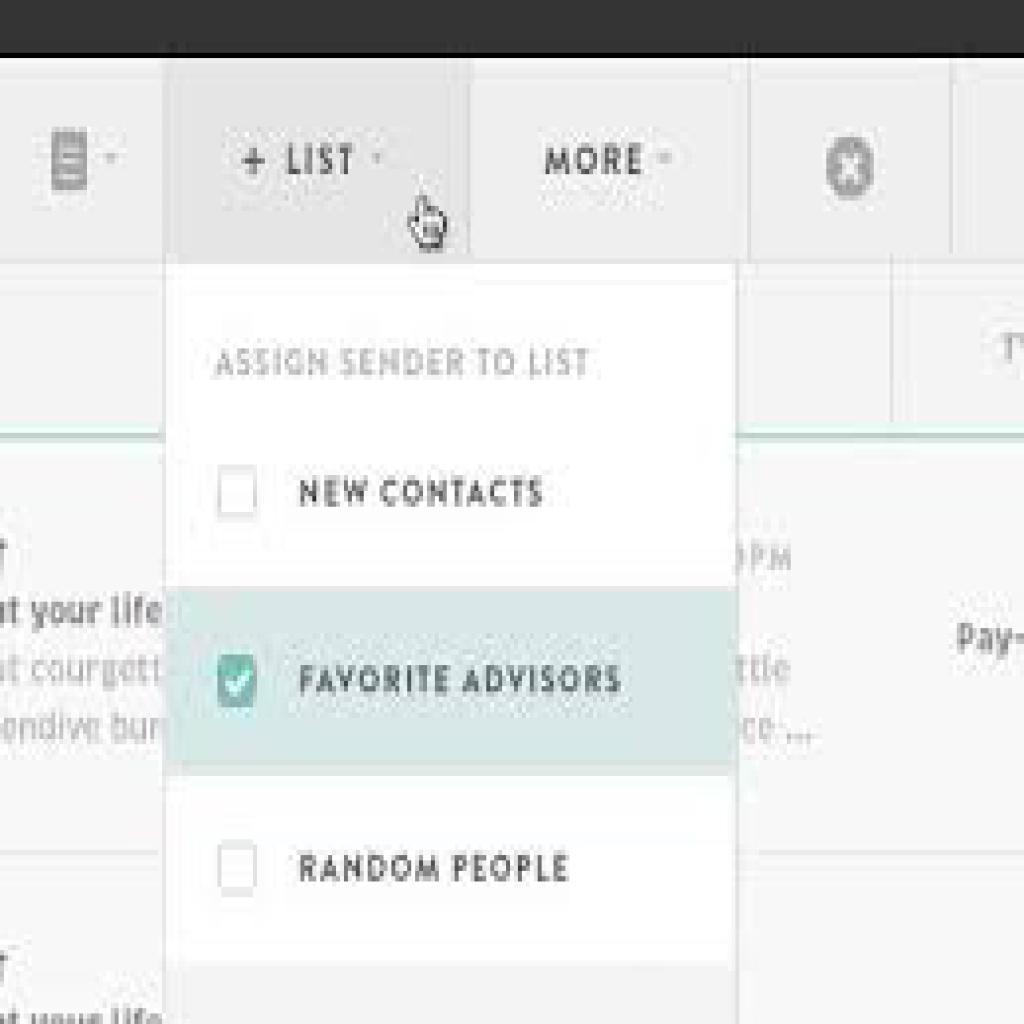checkbox: (217, 842, 260, 897), (218, 654, 260, 710), (217, 464, 258, 515)
icon: (48, 128, 95, 198), (824, 134, 871, 199), (234, 138, 273, 190)
